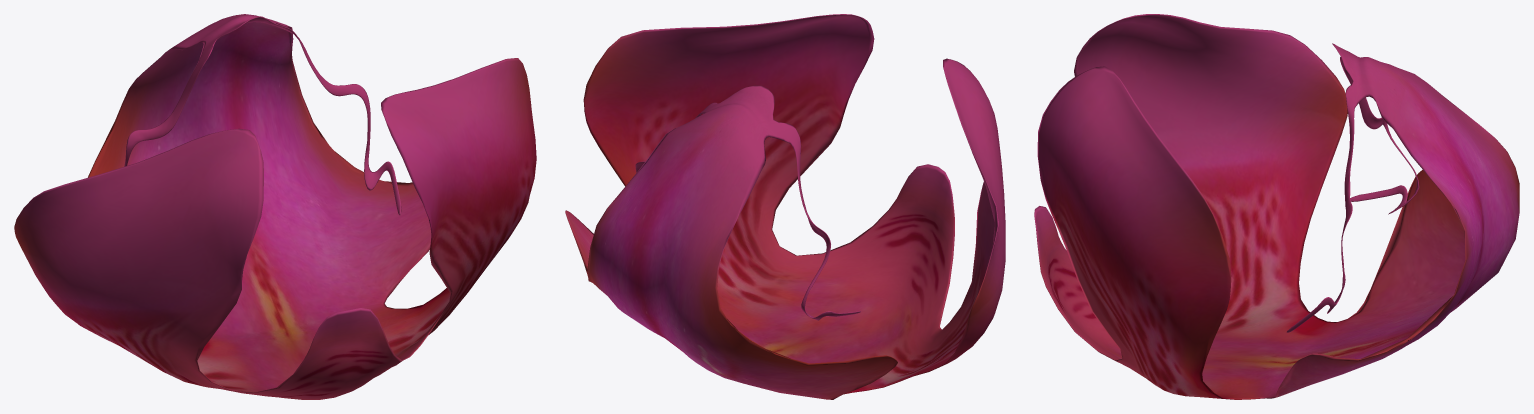
Rendered from flower4.glb.
3 renders of one model, left to right at view 1: azimuth 30°, elevation 25°; view 2: azimuth 150°, elevation 25°; view 3: azimuth 270°, elevation 25°, orthographic. The views are drawn at different scales.
Parts seen in each view (by area): view 1: 1 (Copy); view 2: 1 (Copy); view 3: 1 (Copy).
Boxes of the visible parts, box(x1,y1,x2,y2) form: 1 (Copy): box(14, 14, 536, 399); 1 (Copy): box(565, 14, 1005, 399); 1 (Copy): box(1034, 14, 1519, 399).
Bounding box in the file's own units: 31.91 × 20.12 × 27.41.
1 material, 1 textured.
